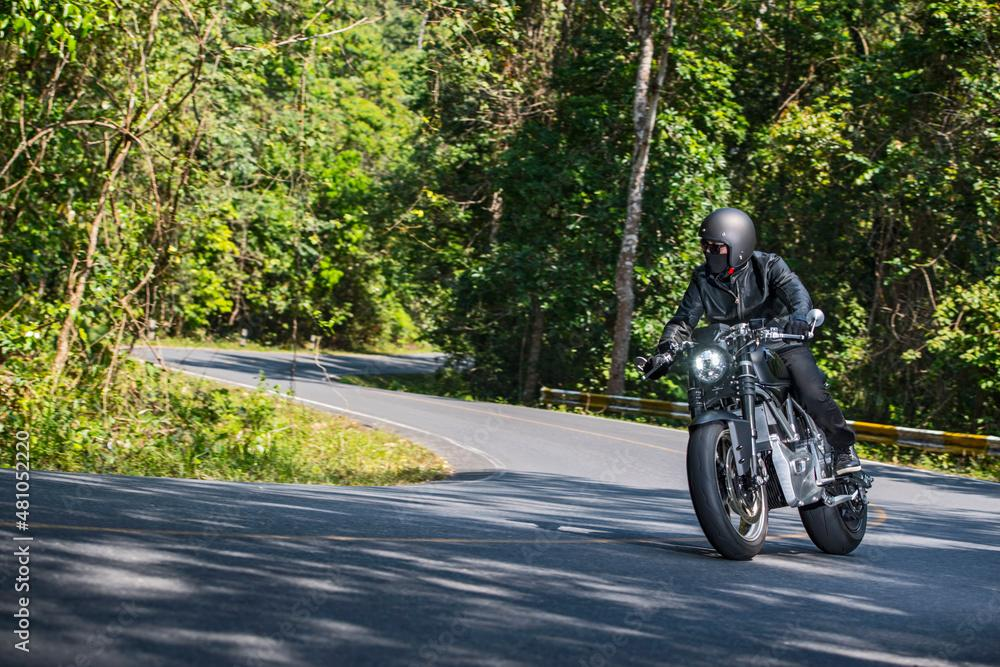helmet: (698, 206, 757, 274)
